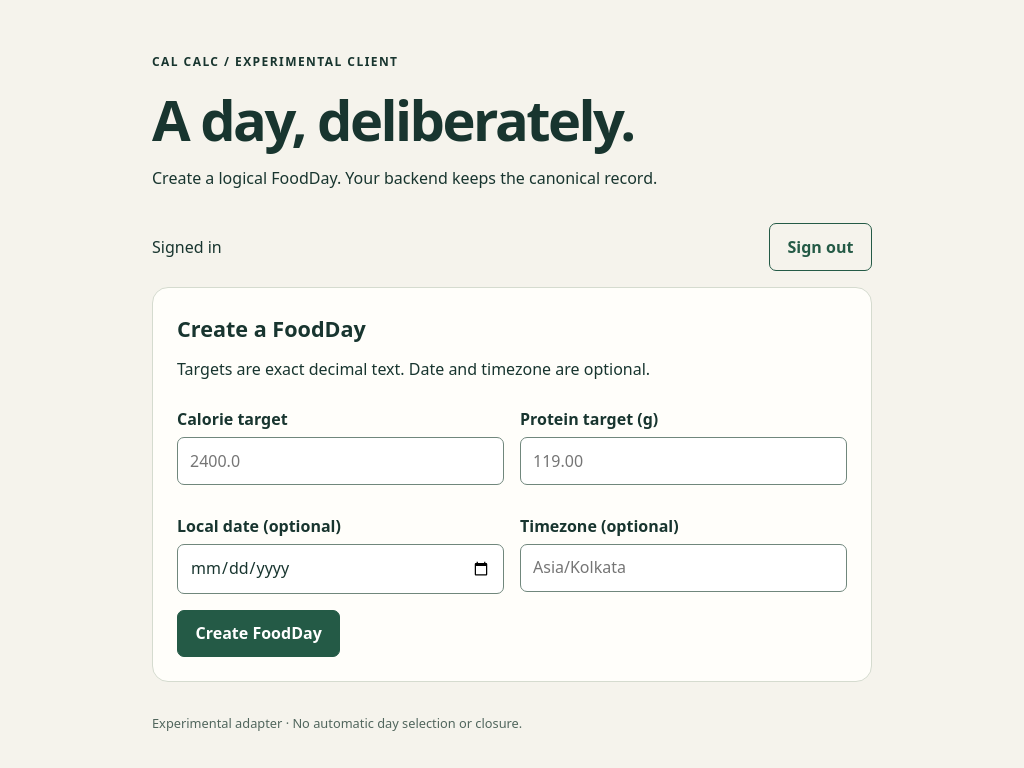
it: experimental FoodDay client › sends null for blank optional metadata
The image size is (1024, 768).
Expected: the heading "Create a FoodDay" is shown, [177, 314, 366, 343]
Type "685.107500" into the field labelled "Calorie target" at (340, 461), box [177, 437, 504, 485]
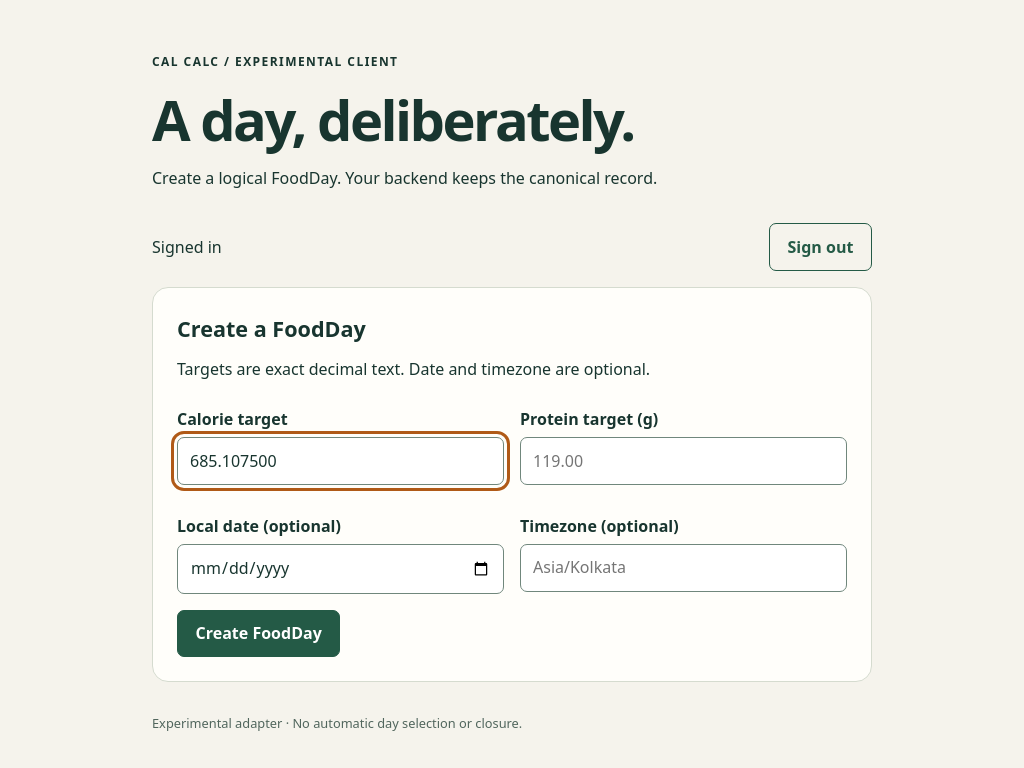
Type "41.002500" into the field labelled "Protein target (g)" at (684, 461), box [520, 437, 847, 485]
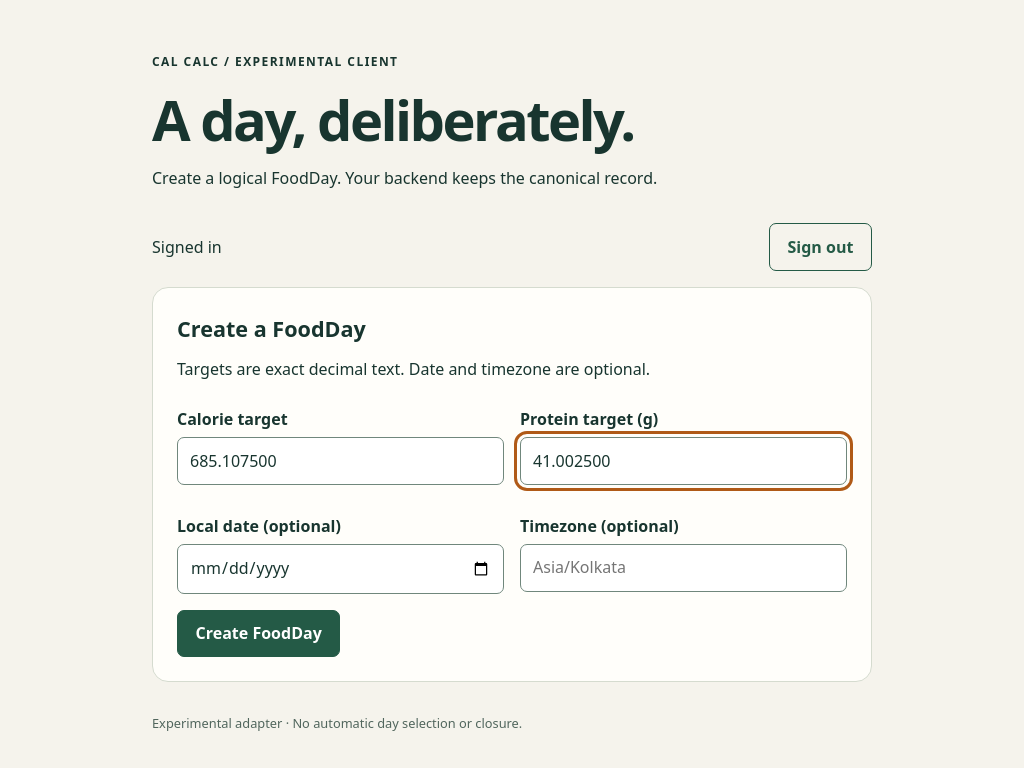
Click the button "Create FoodDay" at (259, 633), box [177, 610, 340, 657]
(page scrolled)
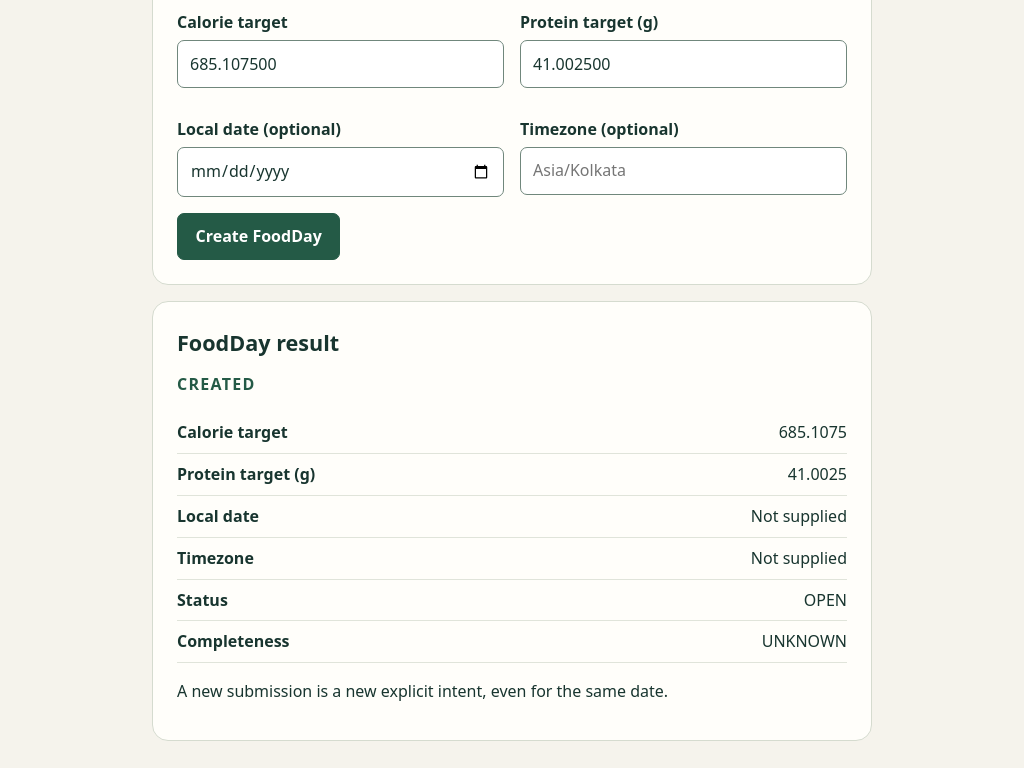
Expected: the text "CREATED" is shown, [177, 373, 256, 395]
Expected: the text "Not supplied" is shown 2 times, [751, 504, 847, 529]; [751, 546, 847, 571]
